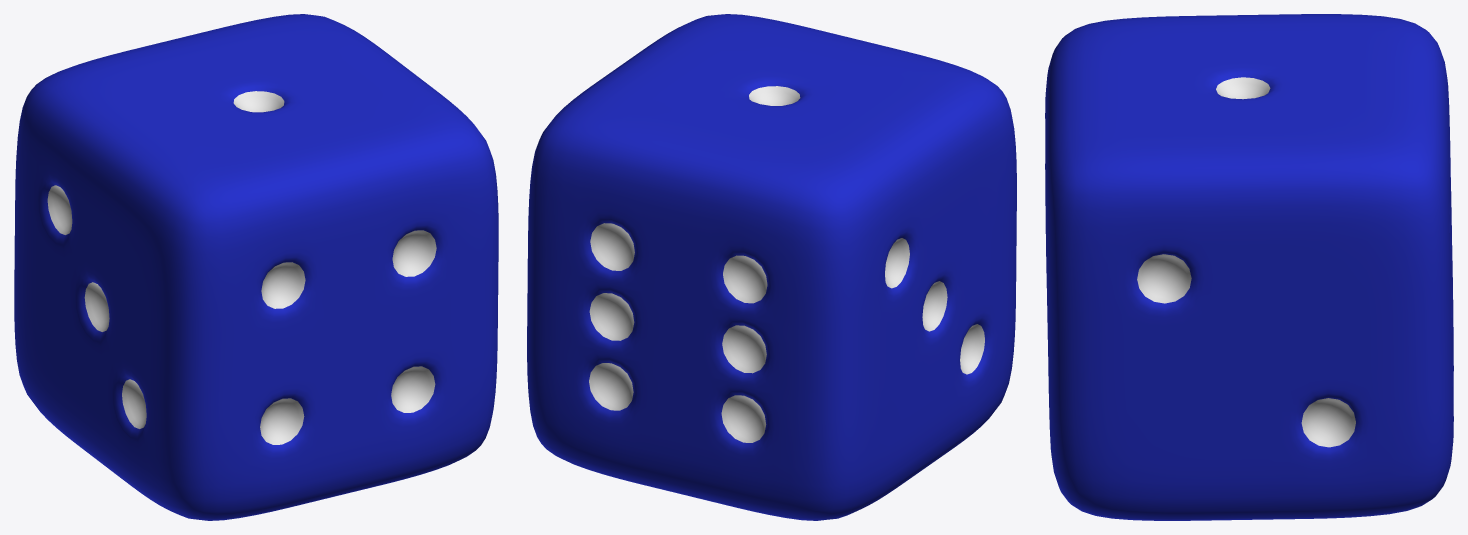
File: dice.glb
3 views of the same model, side by side, from view 1: azimuth 30°, elevation 25°; view 2: azimuth 150°, elevation 25°; view 3: azimuth 270°, elevation 25° (orthographic). The views are drawn at different scales.
Visible parts, largest first — view 1: dice; view 2: dice; view 3: dice.
Boxes of the visible parts, x1,y1,x2,y2 form: dice: [14, 14, 498, 520]; dice: [527, 14, 1016, 520]; dice: [1045, 14, 1453, 520].
Bounding box in the file's own units: 1.19 × 1.2 × 1.2.
